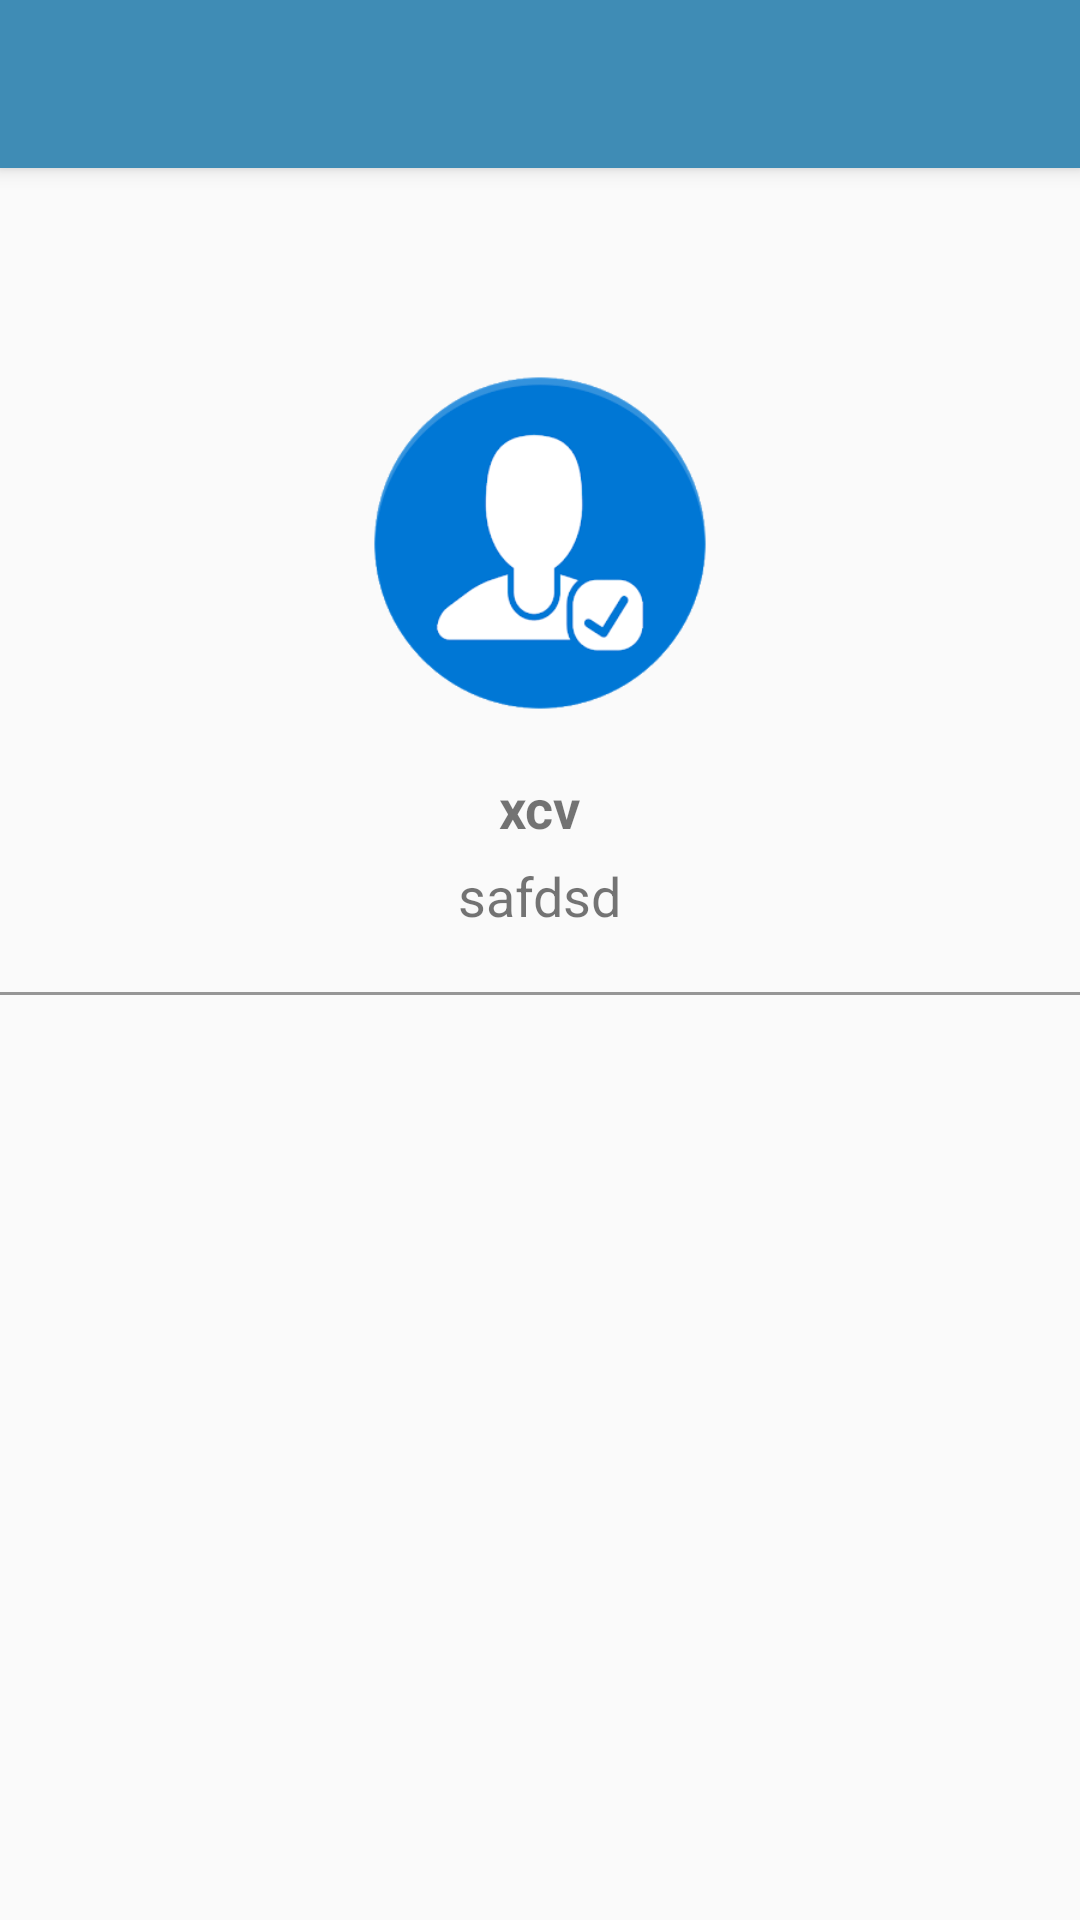

Icon click points for this 1080px x 1920px phone screenshot, format [x,y]:
profile: [540,543]
